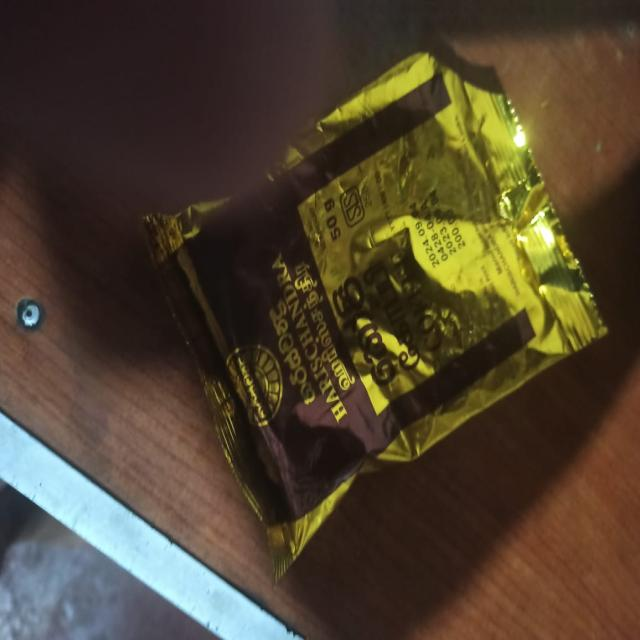Harischandra Coffee: (78, 96, 630, 535)
